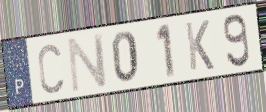0: (110, 29, 140, 85)
1: (154, 21, 178, 80)
9: (222, 13, 251, 68)
C: (36, 42, 65, 96)
K: (183, 18, 216, 73)
N: (65, 31, 109, 95)
